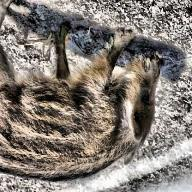boar: (0, 1, 172, 190)
